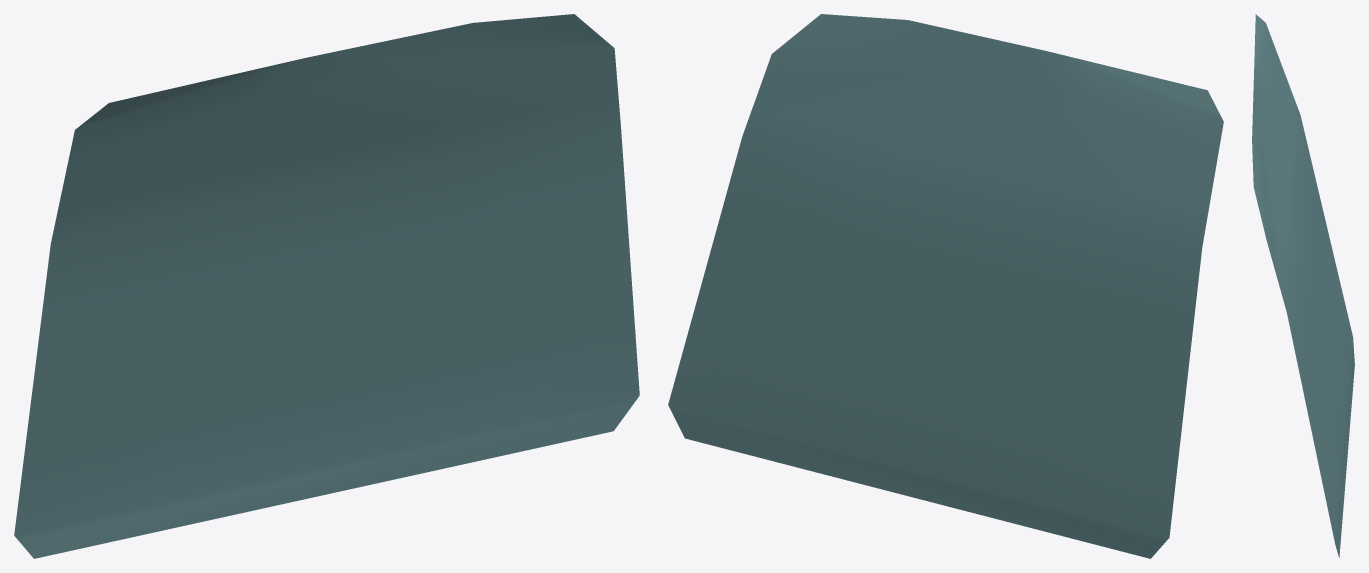
Rendered from VAN_1_Window_RL_Tessellate.fbx.
3 renders of one model, left to right at view 1: azimuth 30°, elevation 25°; view 2: azimuth 150°, elevation 25°; view 3: azimuth 270°, elevation 25°, orthographic. The views are drawn at different scales.
Visible parts, largest first — view 1: VAN_1_Window_RL_Tessellate; view 2: VAN_1_Window_RL_Tessellate; view 3: VAN_1_Window_RL_Tessellate.
Part boxes in pixels (left/top/right/bottom): VAN_1_Window_RL_Tessellate: left=14, top=14, right=639, bottom=558; VAN_1_Window_RL_Tessellate: left=668, top=14, right=1223, bottom=558; VAN_1_Window_RL_Tessellate: left=1252, top=14, right=1354, bottom=557.
Bounding box in the file's own units: 29.54 × 23.42 × 6.18.
